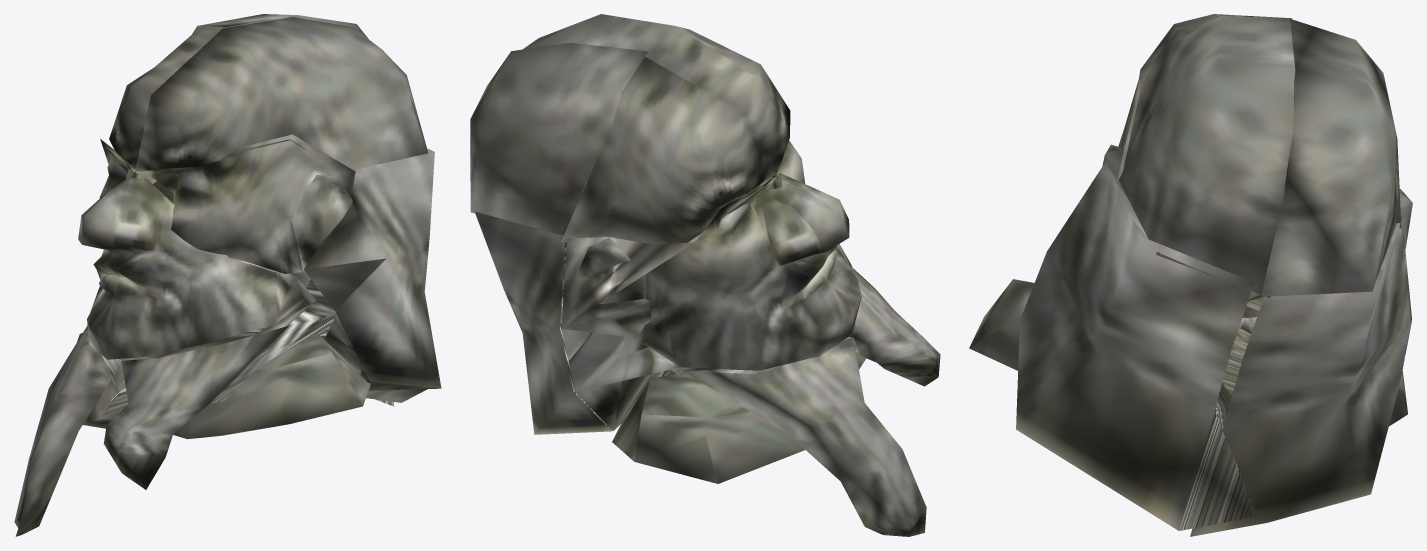
Rendered from INST_SM_SCULPTUREHEAD_DESTROYED.fbx.
3 renders of one model, left to right at view 1: azimuth 30°, elevation 25°; view 2: azimuth 150°, elevation 25°; view 3: azimuth 270°, elevation 25°, orthographic. The views are drawn at different scales.
Visible parts, largest first — view 1: INST_SM_SCULPTUREHEAD_DESTROYED; view 2: INST_SM_SCULPTUREHEAD_DESTROYED; view 3: INST_SM_SCULPTUREHEAD_DESTROYED.
Boxes of the visible parts, x1,y1,x2,y2 form: INST_SM_SCULPTUREHEAD_DESTROYED: (14,14,441,536); INST_SM_SCULPTUREHEAD_DESTROYED: (470,14,940,536); INST_SM_SCULPTUREHEAD_DESTROYED: (969,14,1412,536).
Bounding box in the file's own units: 30907 × 31261 × 24398.
1 material, 1 textured.
